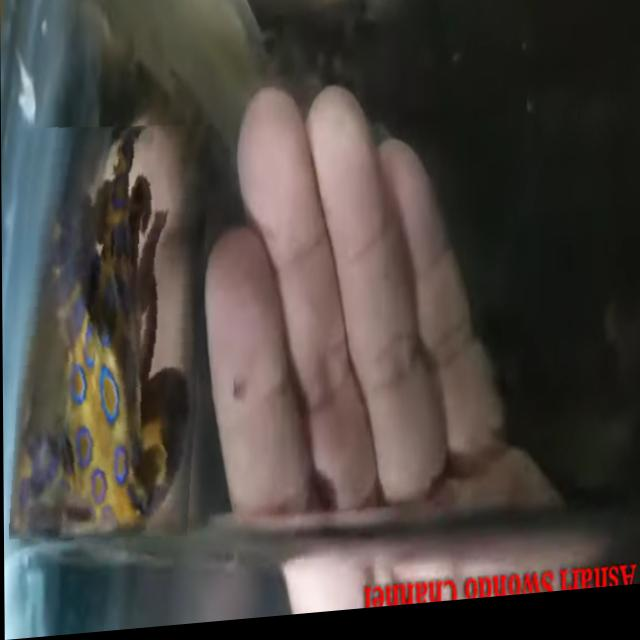blue_ringed_octopus: (13, 119, 208, 548)
